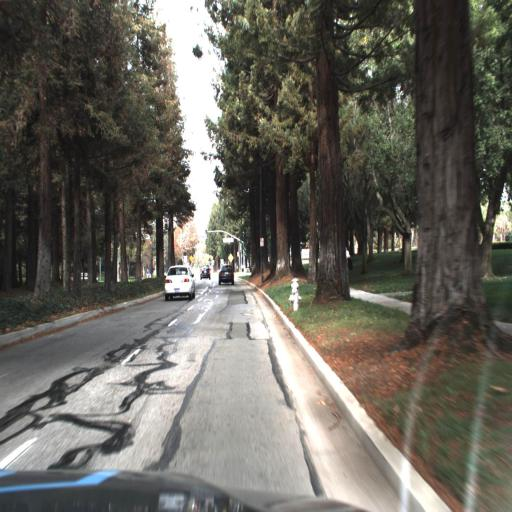car: (164, 262, 195, 300), (217, 261, 237, 286), (75, 271, 99, 283), (199, 263, 212, 281)
